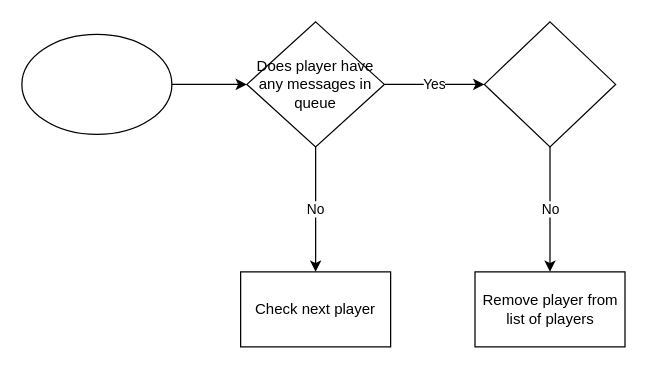
Image size: 648x369. Some labels were removed from this diagram. Each missing label, with the centre of its shape:
Does player want to disconnect?: (549,84)
Method called: (96,83)
